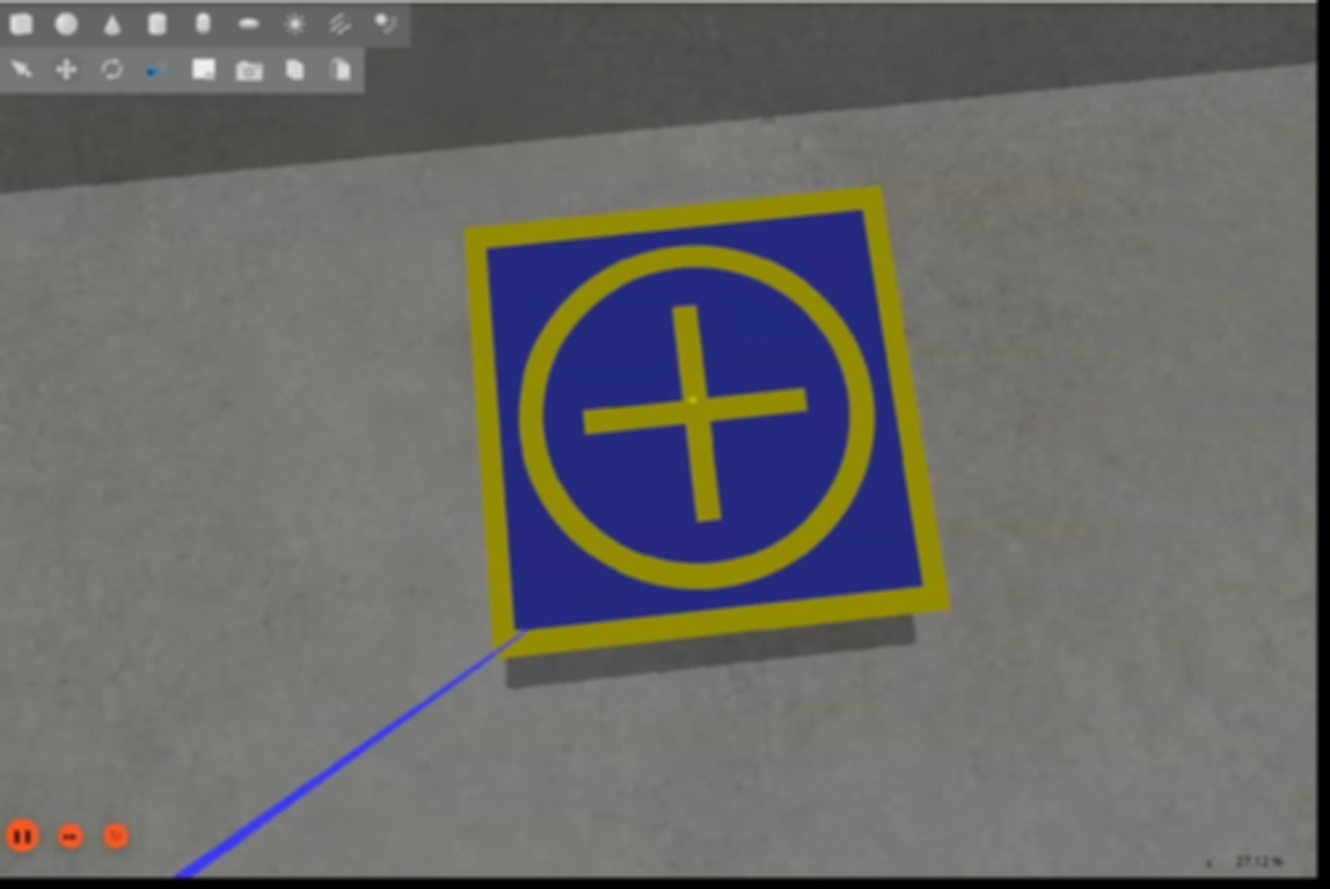small_base: (462, 186, 953, 660)
